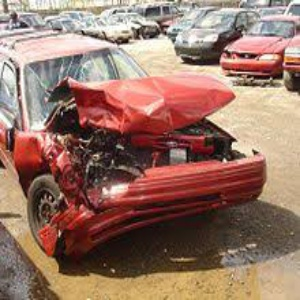bonnet: (64, 70, 229, 135)
bumper: (43, 171, 193, 260)
